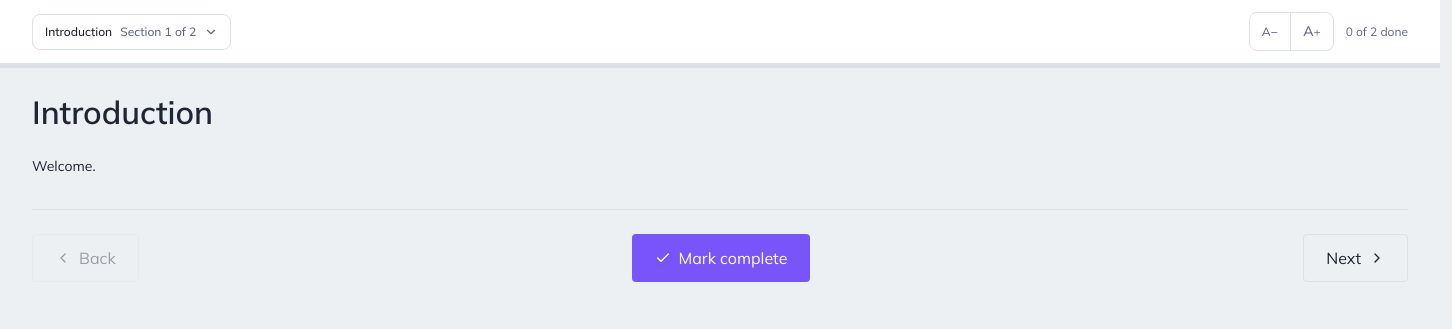
Test: shows an inline error if marking complete fails, without changing the toggle state
Expected: the text "Welcome." is shown, top-left (32, 157), bottom-right (96, 175)
Click the button "Mark complete" at (721, 258), box top-left (632, 234), bottom-right (810, 282)
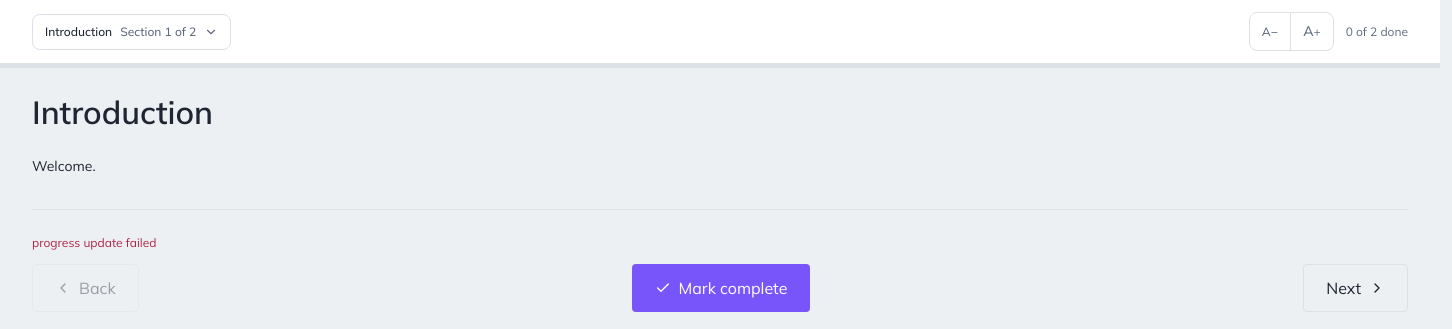
Result: the message reads "progress update failed" at top-left (32, 235), bottom-right (156, 250)
